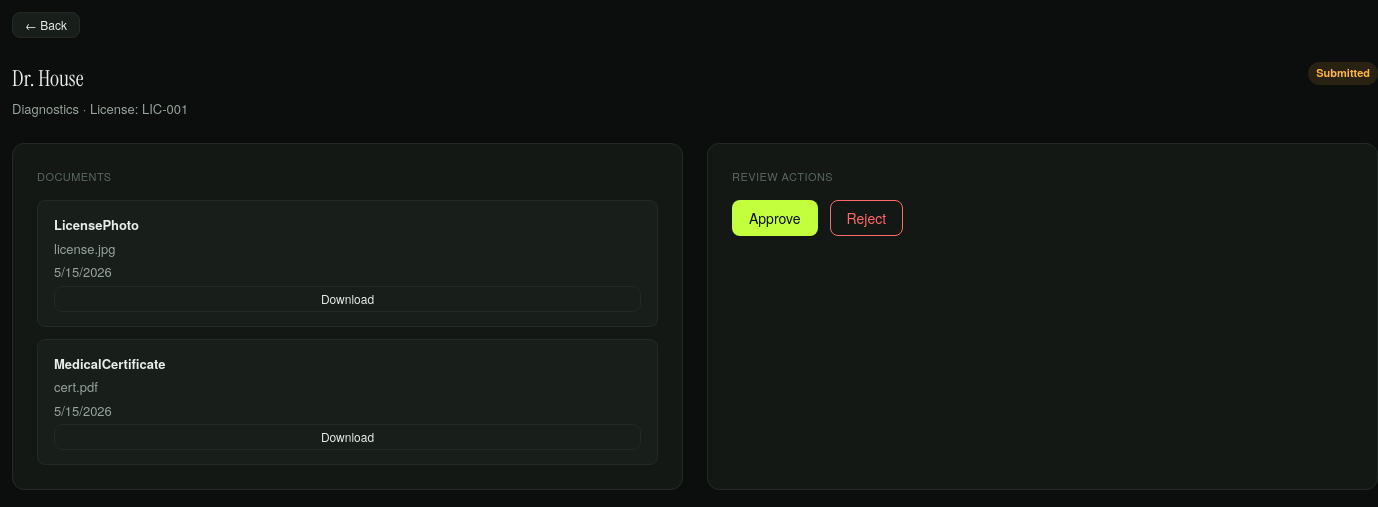
it: KycReviewPage › shows rejection form when Reject is clicked
Click the button "Reject" at (866, 218), box [830, 200, 903, 236]
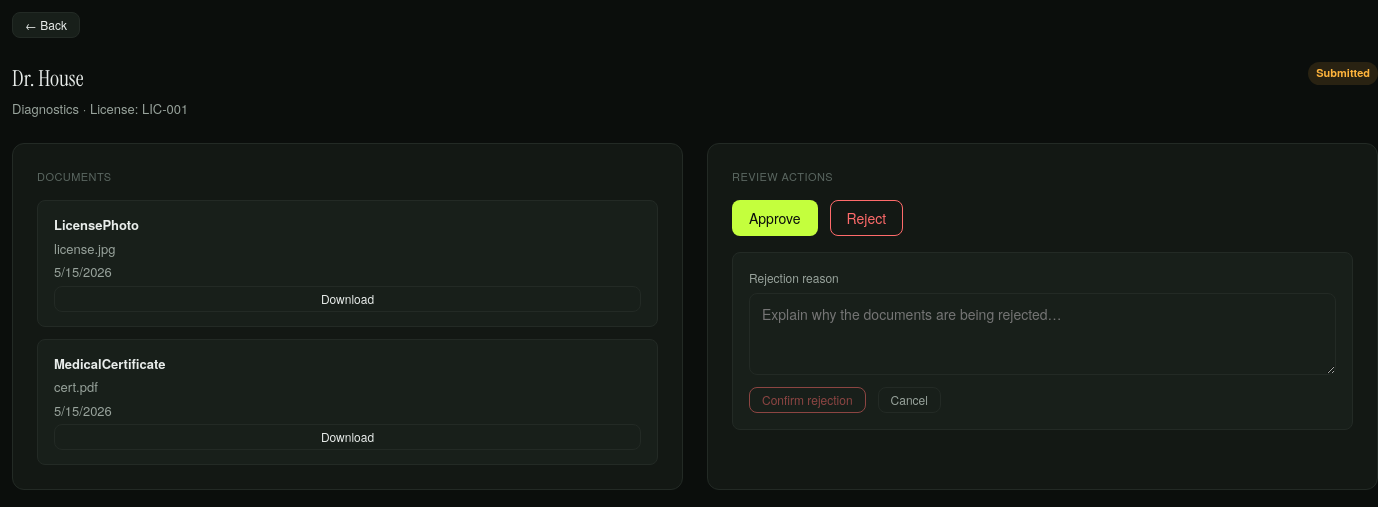
Expected: the text "Rejection reason" is shown, [749, 269, 839, 286]
Expected: the text box with placeholder "Explain why the documents are being rejected…" is shown, [749, 293, 1336, 375]
Expected: the button "Confirm rejection" is shown, [749, 387, 866, 413]
